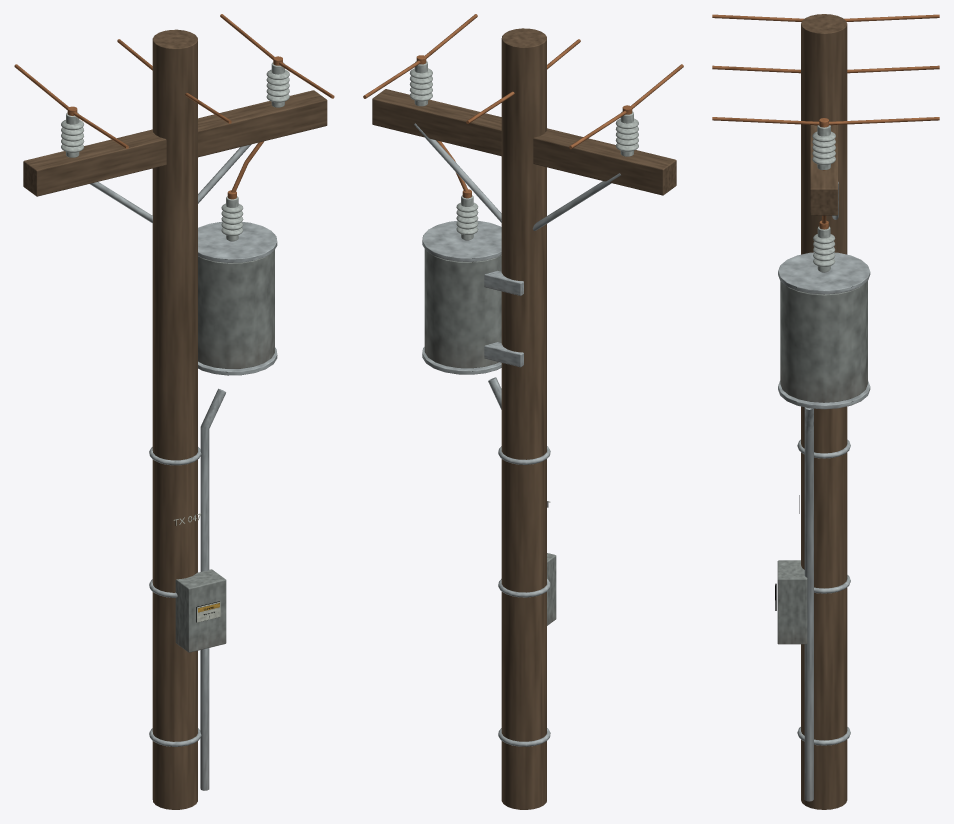
File: GR_UtilityPole_01.glb
3 renders of one model, left to right at view 1: azimuth 30°, elevation 25°; view 2: azimuth 150°, elevation 25°; view 3: azimuth 270°, elevation 25°, orthographic. The views are drawn at different scales.
Visible parts, largest first — view 1: Static; view 2: Static; view 3: Static.
Boxes of the visible parts, left/top/right/bottom form: Static: left=14, top=14, right=334, bottom=809; Static: left=363, top=14, right=683, bottom=809; Static: left=712, top=14, right=939, bottom=809.
Bounding box in the file's own units: 1.84 × 4.6 × 1.22.
1 material, 1 textured.
